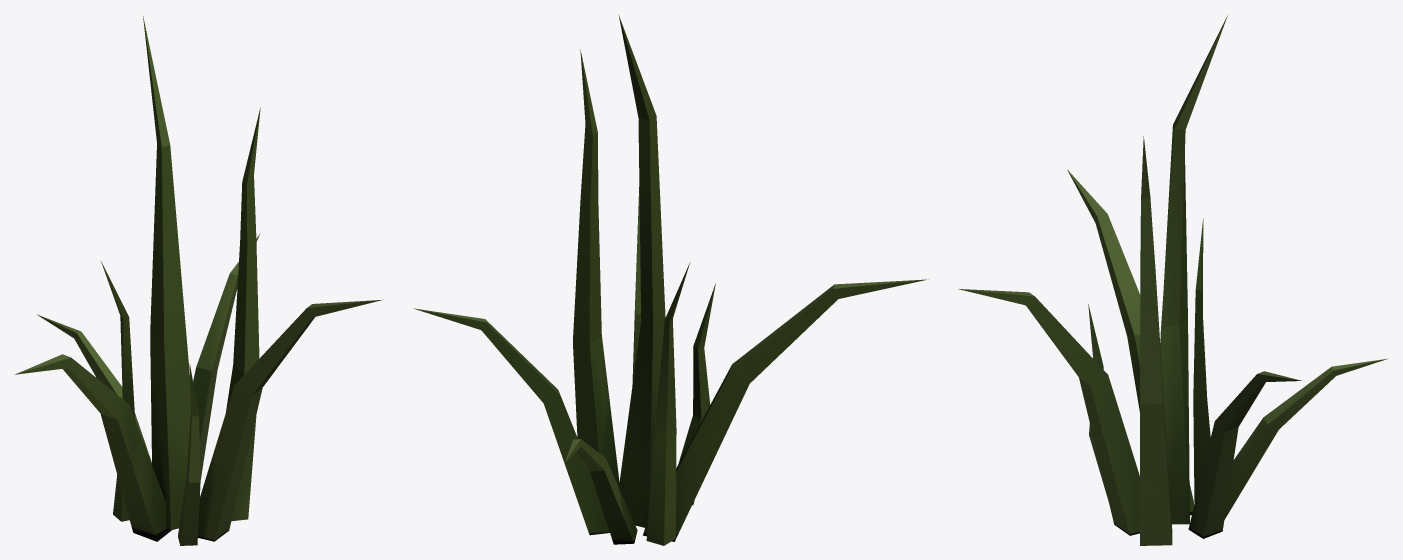
The model's file is grassBueschel.obj.
3 views of the same model, side by side, from view 1: azimuth 30°, elevation 25°; view 2: azimuth 150°, elevation 25°; view 3: azimuth 270°, elevation 25° (orthographic). The views are drawn at different scales.
Parts seen in each view (by area): view 1: Grass1_Cube.051; view 2: Grass1_Cube.051; view 3: Grass1_Cube.051.
Boxes of the visible parts, <box> form: Grass1_Cube.051: <box>15,16,383,545</box>; Grass1_Cube.051: <box>413,15,928,545</box>; Grass1_Cube.051: <box>958,15,1387,545</box>.
Size of the model in its own units: 1.02 by 1.34 by 1.03.
1 material, 1 textured.
